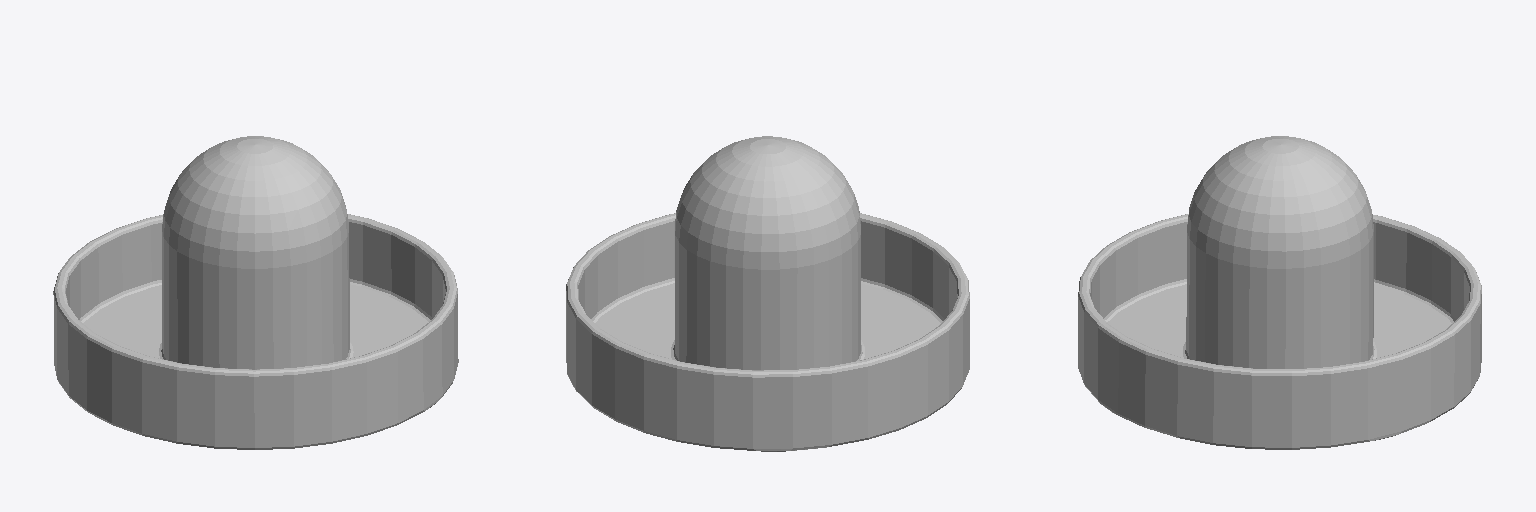
File: paddle.obj
3 views of the same model, side by side, from view 1: azimuth 30°, elevation 25°; view 2: azimuth 150°, elevation 25°; view 3: azimuth 270°, elevation 25° (orthographic).
Visible parts, largest first — view 1: Handle2; view 2: Handle2; view 3: Handle2.
Part boxes in pixels (left/top/right/bottom): Handle2: left=53, top=136, right=458, bottom=449; Handle2: left=566, top=136, right=969, bottom=451; Handle2: left=1078, top=136, right=1481, bottom=449.
Bounding box in the file's own units: 0.1409 × 0.0856 × 0.141.